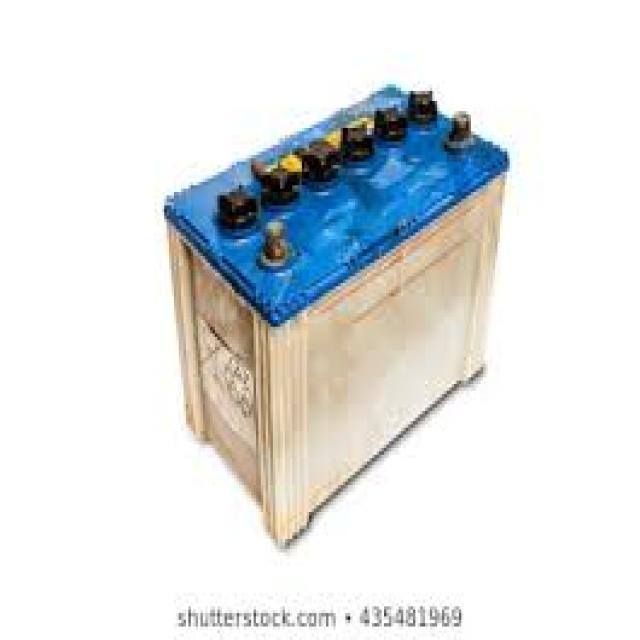non-organic waste: (158, 83, 510, 544)
